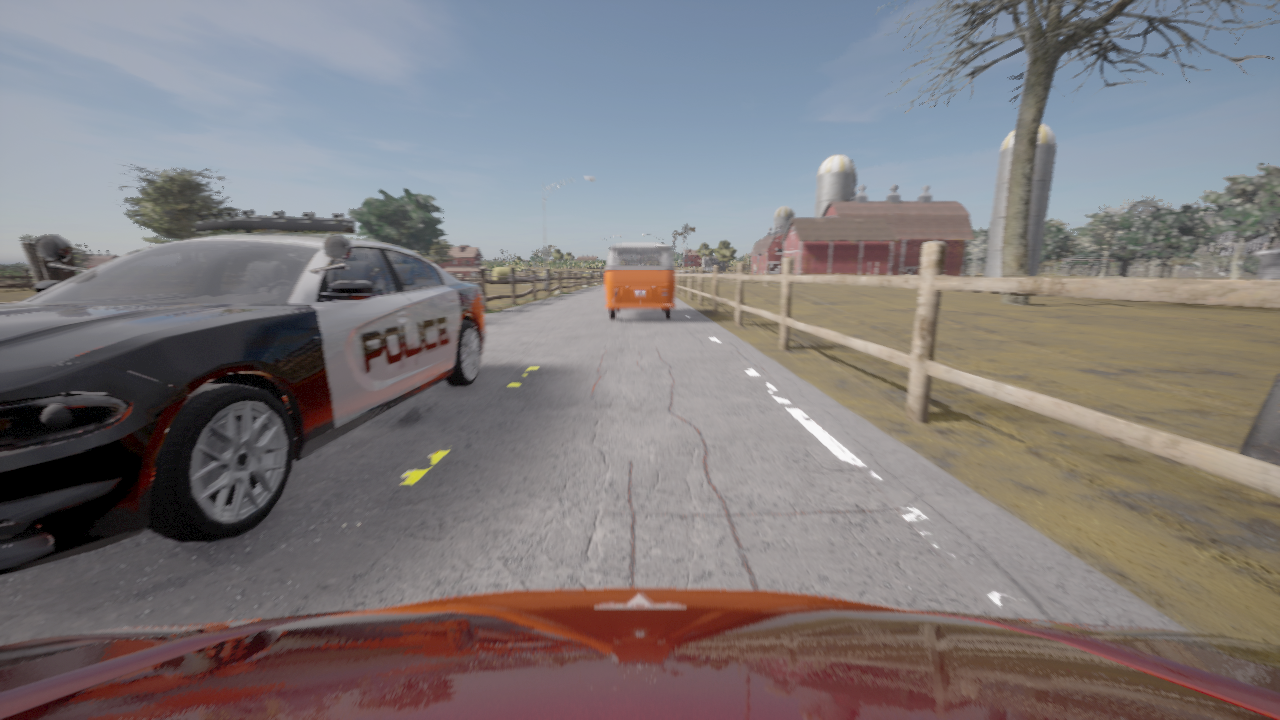cyclist: (0, 210, 484, 575), (0, 588, 1279, 719), (605, 243, 674, 319)
